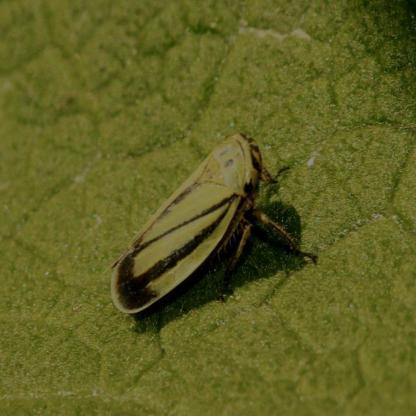green-leafhopper: (110, 132, 317, 317)
